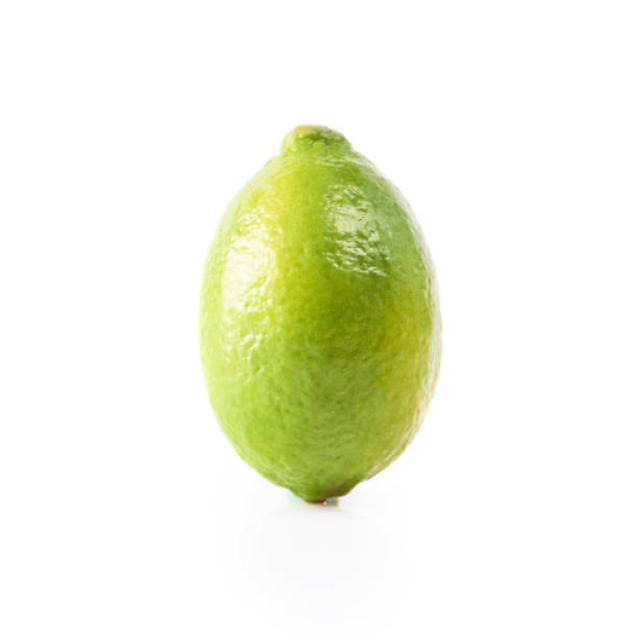Lemon: (196, 121, 447, 506)
